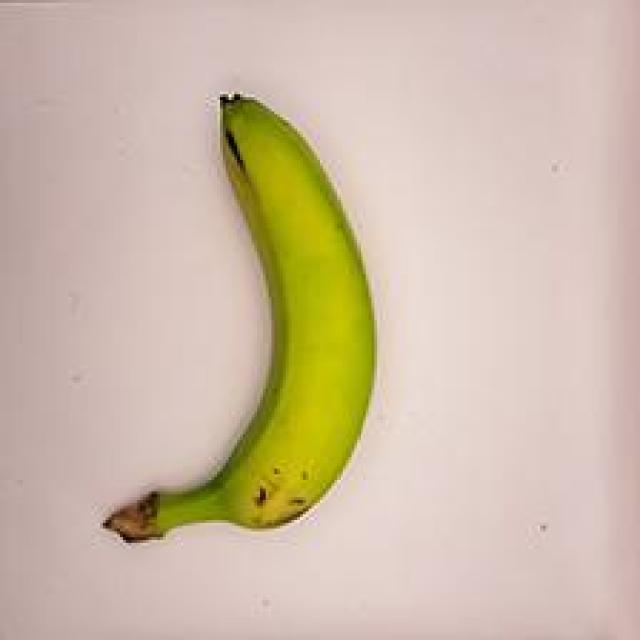Unripe: (102, 78, 394, 571)
